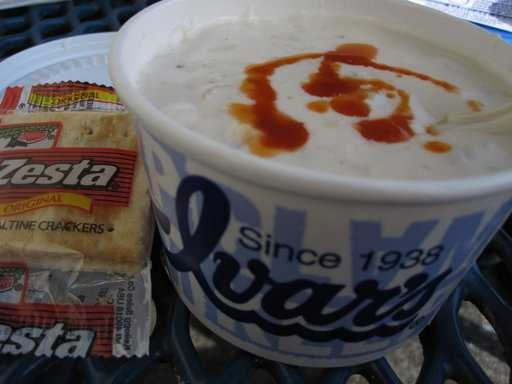soup: (131, 8, 511, 193)
